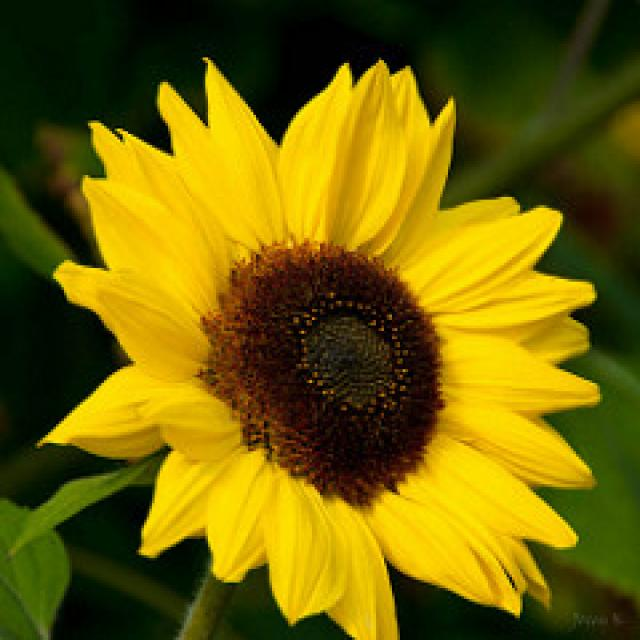sunflower: (53, 54, 597, 640)
